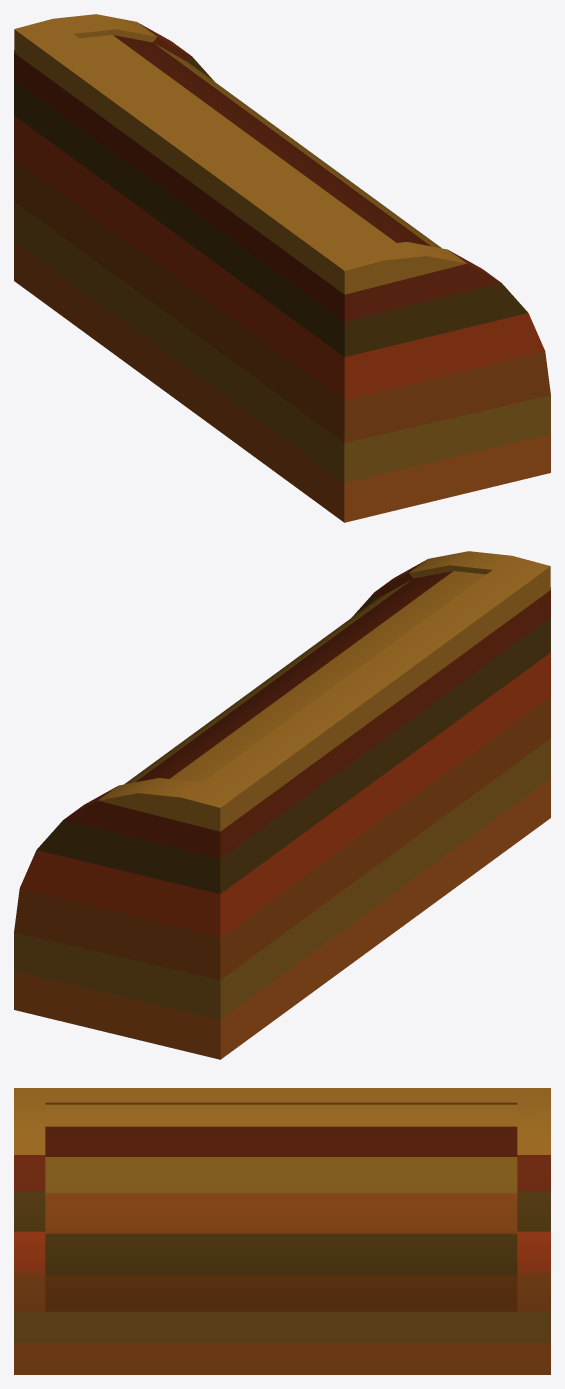
File: Breadbox_01.fbx
The picture shows the model from 3 angles, top to bottom: view 1: azimuth 30°, elevation 25°; view 2: azimuth 150°, elevation 25°; view 3: azimuth 270°, elevation 25°; orthographic projection. The views are drawn at different scales.
Visible parts, largest first — view 1: BreadBox_01; view 2: BreadBox_01; view 3: BreadBox_01.
Part boxes in pixels (bbox=[...]): BreadBox_01: bbox=[14, 14, 550, 522]; BreadBox_01: bbox=[14, 551, 550, 1059]; BreadBox_01: bbox=[14, 1088, 550, 1374].
Bounding box in the file's own units: 14.55 × 17.04 × 40.32.
